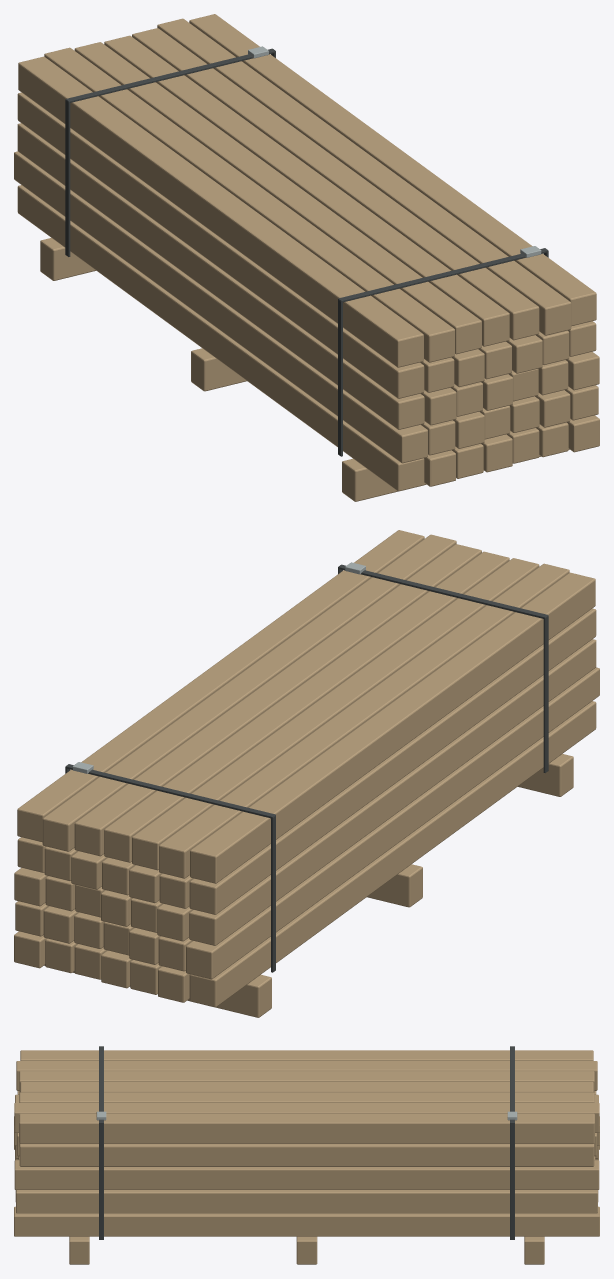
Rendered from timber_bundle.glb.
3 views of the same model, one above another, from view 1: azimuth 30°, elevation 25°; view 2: azimuth 150°, elevation 25°; view 3: azimuth 270°, elevation 25° (orthographic). The views are drawn at different scales.
Visible parts, largest first — view 1: Structure; view 2: Structure; view 3: Structure.
Part boxes in pixels (box(x1,y1,x2,y2)): Structure: box(14, 14, 599, 501); Structure: box(14, 530, 599, 1017); Structure: box(14, 1046, 599, 1264).
Bounding box in the file's own units: 1.3 × 1.07 × 3.99.
